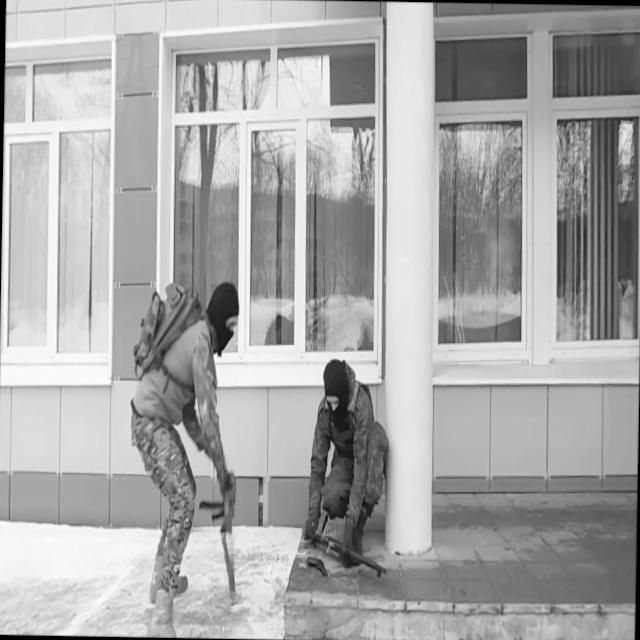gun: (304, 521, 389, 580), (198, 466, 239, 536), (306, 552, 330, 580)
person with a gun: (127, 278, 240, 638), (304, 356, 392, 579)
